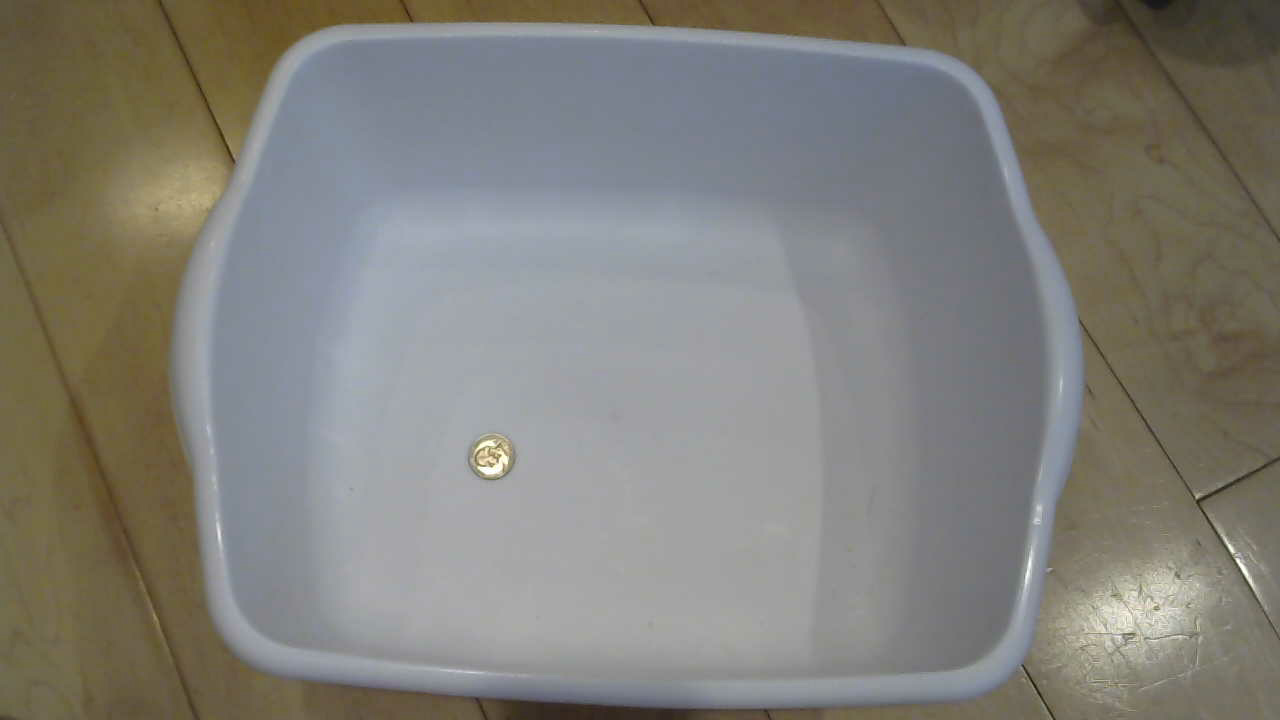coin: (462, 433, 527, 492)
